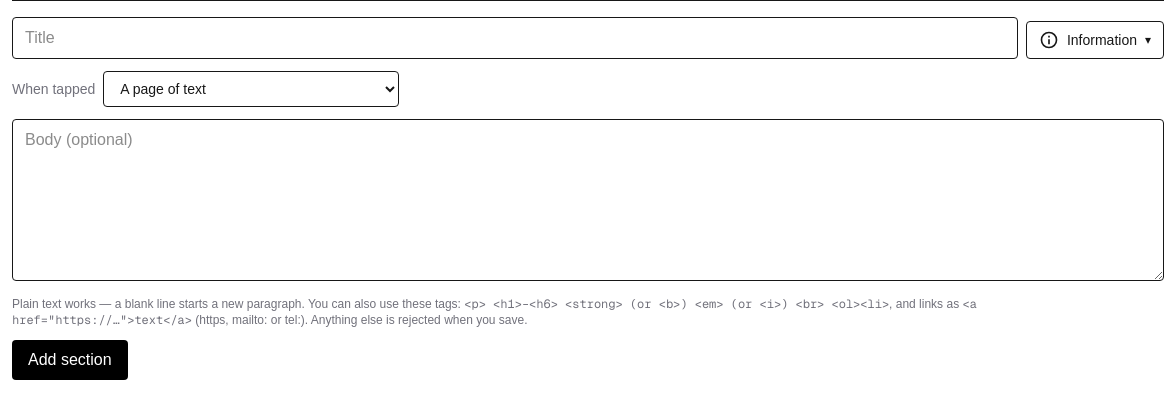
Test: choosing a type changes the inputs at once, with no server call › switching back restores the text box and clears the note
Select "Contacts" in the dropdown labelled "When tapped". click: (251, 89)
box: [103, 71, 399, 107]
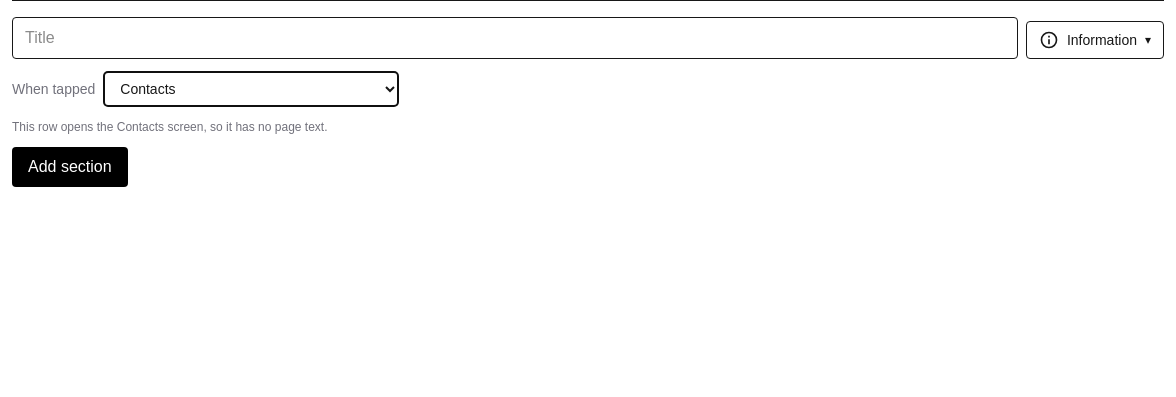
Select "A page of text" in the dropdown labelled "When tapped". click: (251, 89)
box: [103, 71, 399, 107]
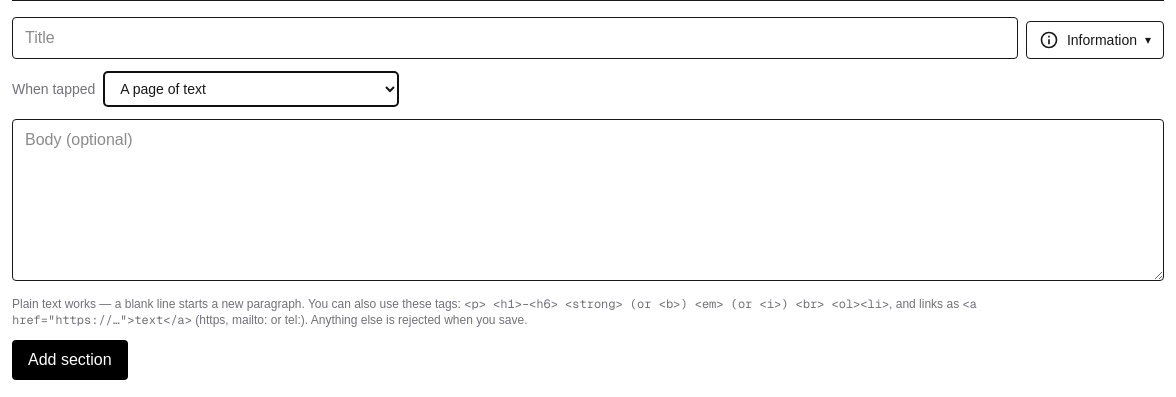
Check: the text "no page text" is gone
